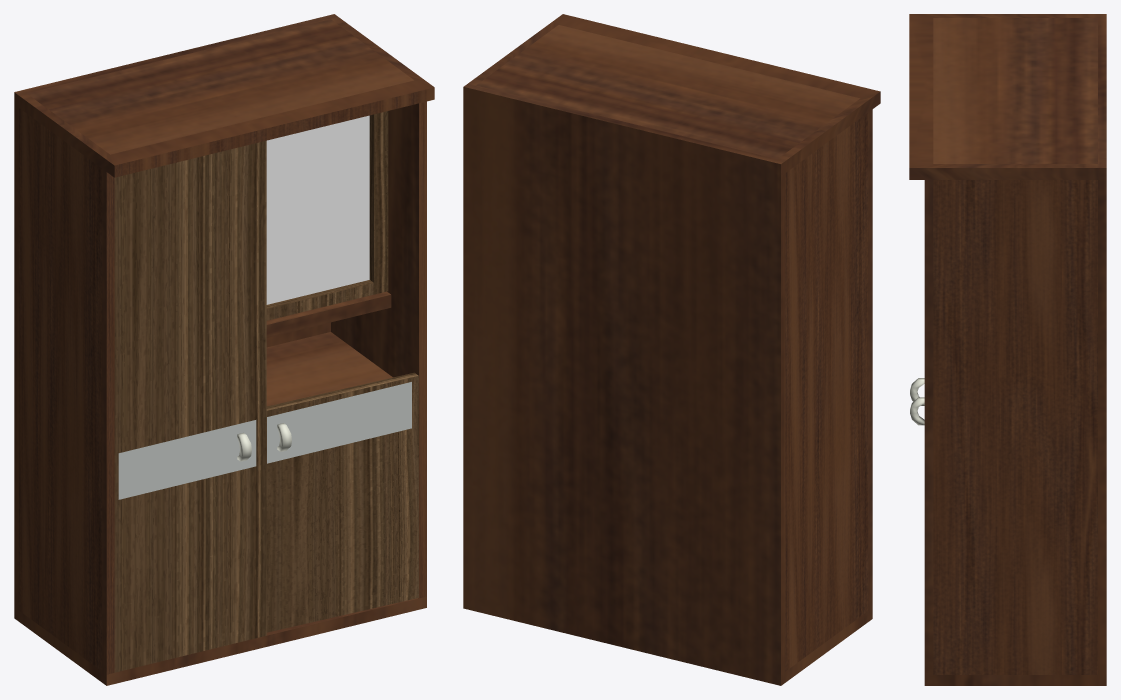
File: wardrobe-with-glass-panel-and-open-shelf.glb
The picture shows the model from 3 angles, left to right: view 1: azimuth 30°, elevation 25°; view 2: azimuth 150°, elevation 25°; view 3: azimuth 270°, elevation 25°; orthographic projection.
Parts seen in each view (by area): view 1: almari_main_mat_almari_main_0, almari_door_long_mat_almari_door_0, almari_door_mirror_mat_almari_mirror_0, Plane.002_mat_almari_line_0, almari_main_mat_almari_iron_0; view 2: almari_main_mat_almari_main_0; view 3: almari_main_mat_almari_main_0, almari_main_mat_almari_iron_0.
Boxes of the visible parts, x1,y1,x2,y2 form: almari_main_mat_almari_main_0: [14, 14, 434, 685]; almari_door_long_mat_almari_door_0: [114, 111, 418, 672]; almari_door_mirror_mat_almari_mirror_0: [266, 115, 369, 304]; Plane.002_mat_almari_line_0: [118, 382, 411, 499]; almari_main_mat_almari_iron_0: [237, 423, 291, 461]; almari_main_mat_almari_main_0: [463, 14, 880, 685]; almari_main_mat_almari_main_0: [909, 14, 1106, 685]; almari_main_mat_almari_iron_0: [910, 378, 924, 425].
Bounding box in the file's own units: 4 × 6.28 × 2.17.
5 materials, 2 textured.
